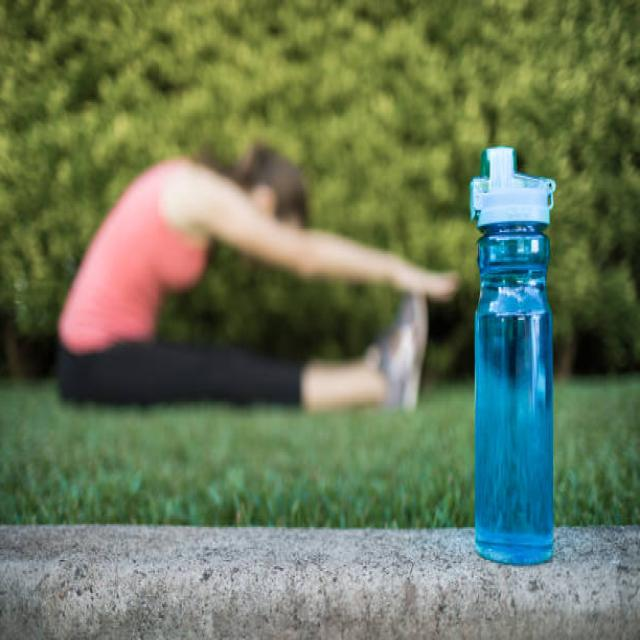blue_bottle: (464, 134, 564, 569)
